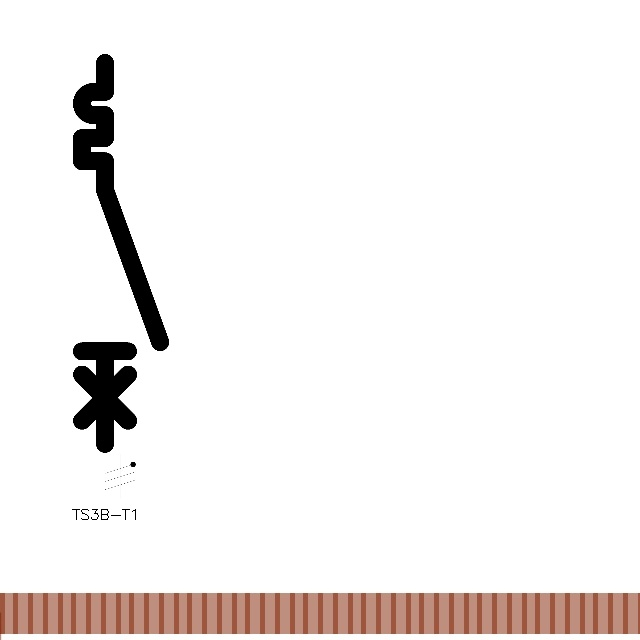interruptor_termomagnetico: (72, 53, 170, 454)
